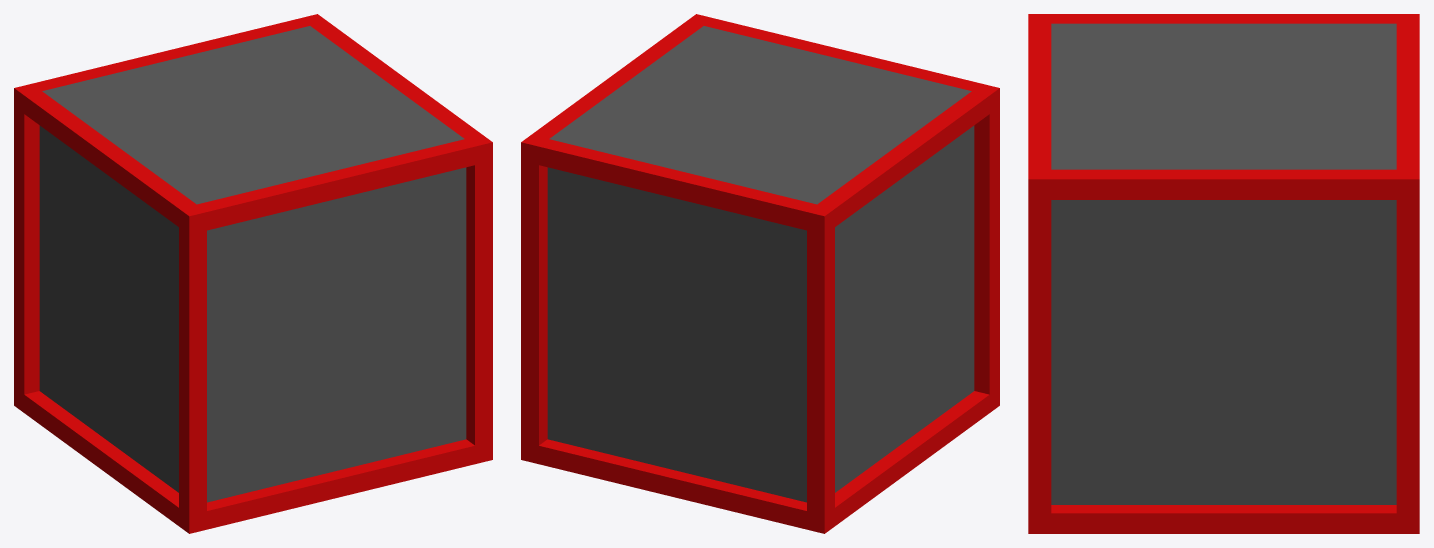
File: Spawner_Block.fbx
3 views of the same model, side by side, from view 1: azimuth 30°, elevation 25°; view 2: azimuth 150°, elevation 25°; view 3: azimuth 270°, elevation 25° (orthographic). The views are drawn at different scales.
Parts seen in each view (by area): view 1: Cube; view 2: Cube; view 3: Cube.
Part boxes in pixels (left/top/right/bottom): Cube: left=14, top=14, right=492, bottom=533; Cube: left=521, top=14, right=999, bottom=533; Cube: left=1028, top=14, right=1419, bottom=533.
Bounding box in the file's own units: 200 × 200 × 200.
